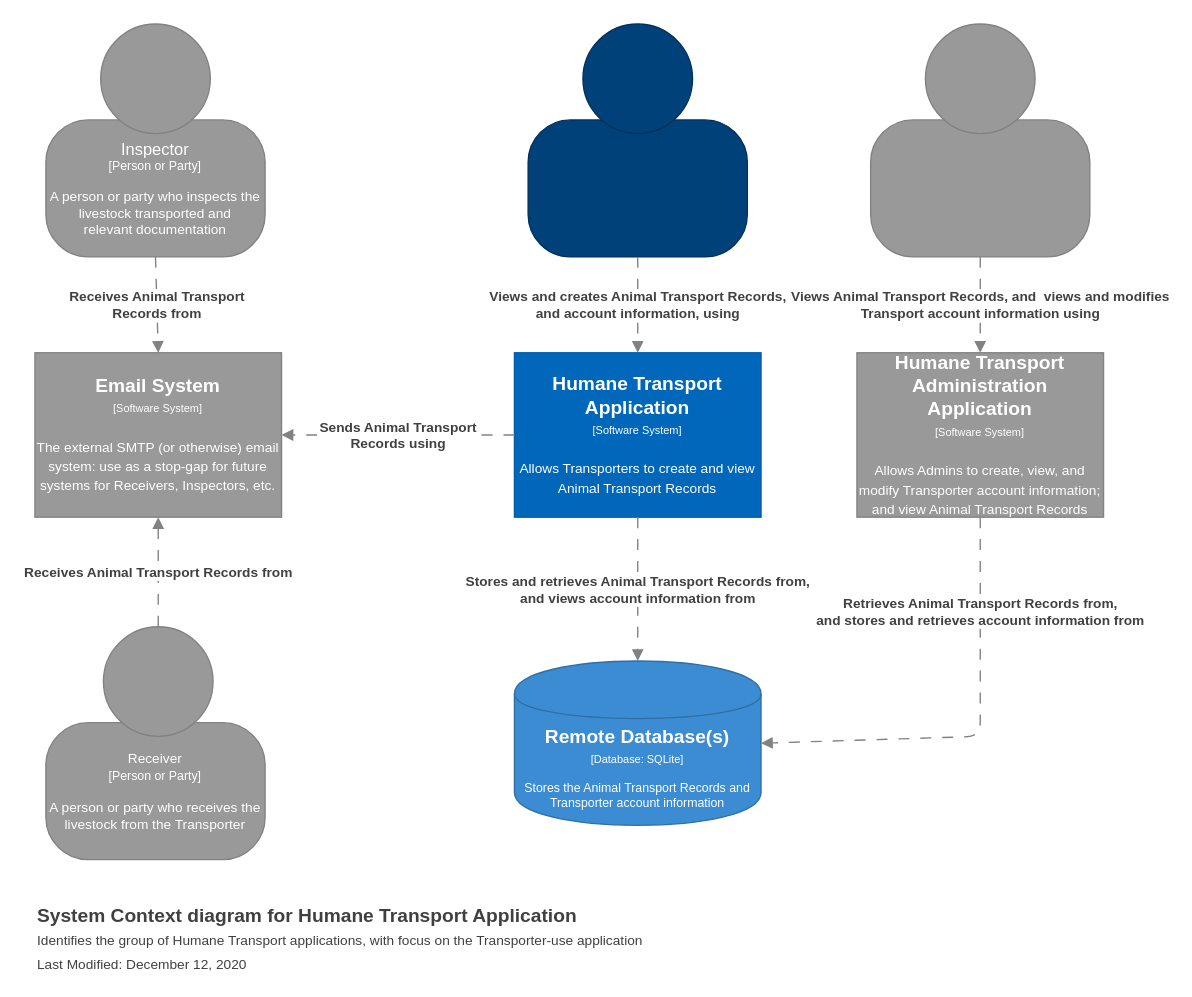
Some shapes in this 1192 by 997 pixel diagram are drawn without their labels. The shapes that lost their labels are listed below. From the top down, each one's centre as x and y in pixels, then its label:
point (637, 188): Transporter [Person] A Canadian Livestock Transporter, with an account
point (979, 188): Admin [Person] An administrator of Transport accounts
